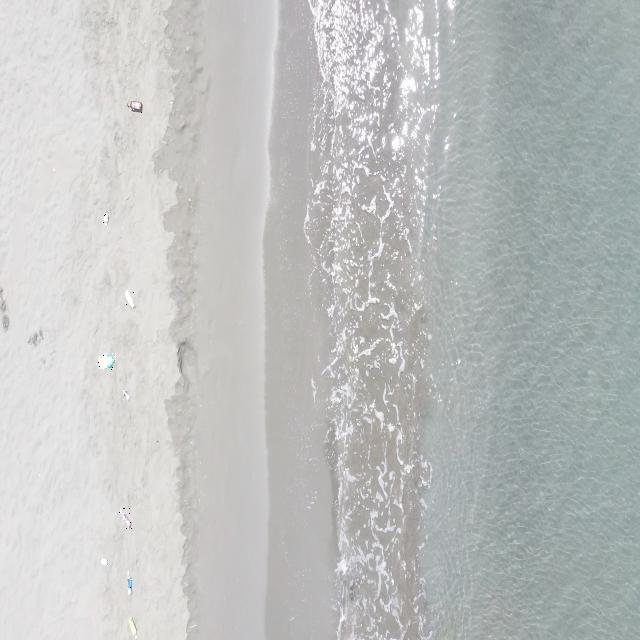Garbage: (118, 507, 131, 528), (27, 328, 43, 344), (96, 353, 114, 367), (123, 288, 134, 307), (128, 616, 136, 636), (127, 100, 141, 111), (101, 212, 108, 224), (127, 572, 131, 593), (100, 556, 108, 566), (121, 390, 128, 400)
